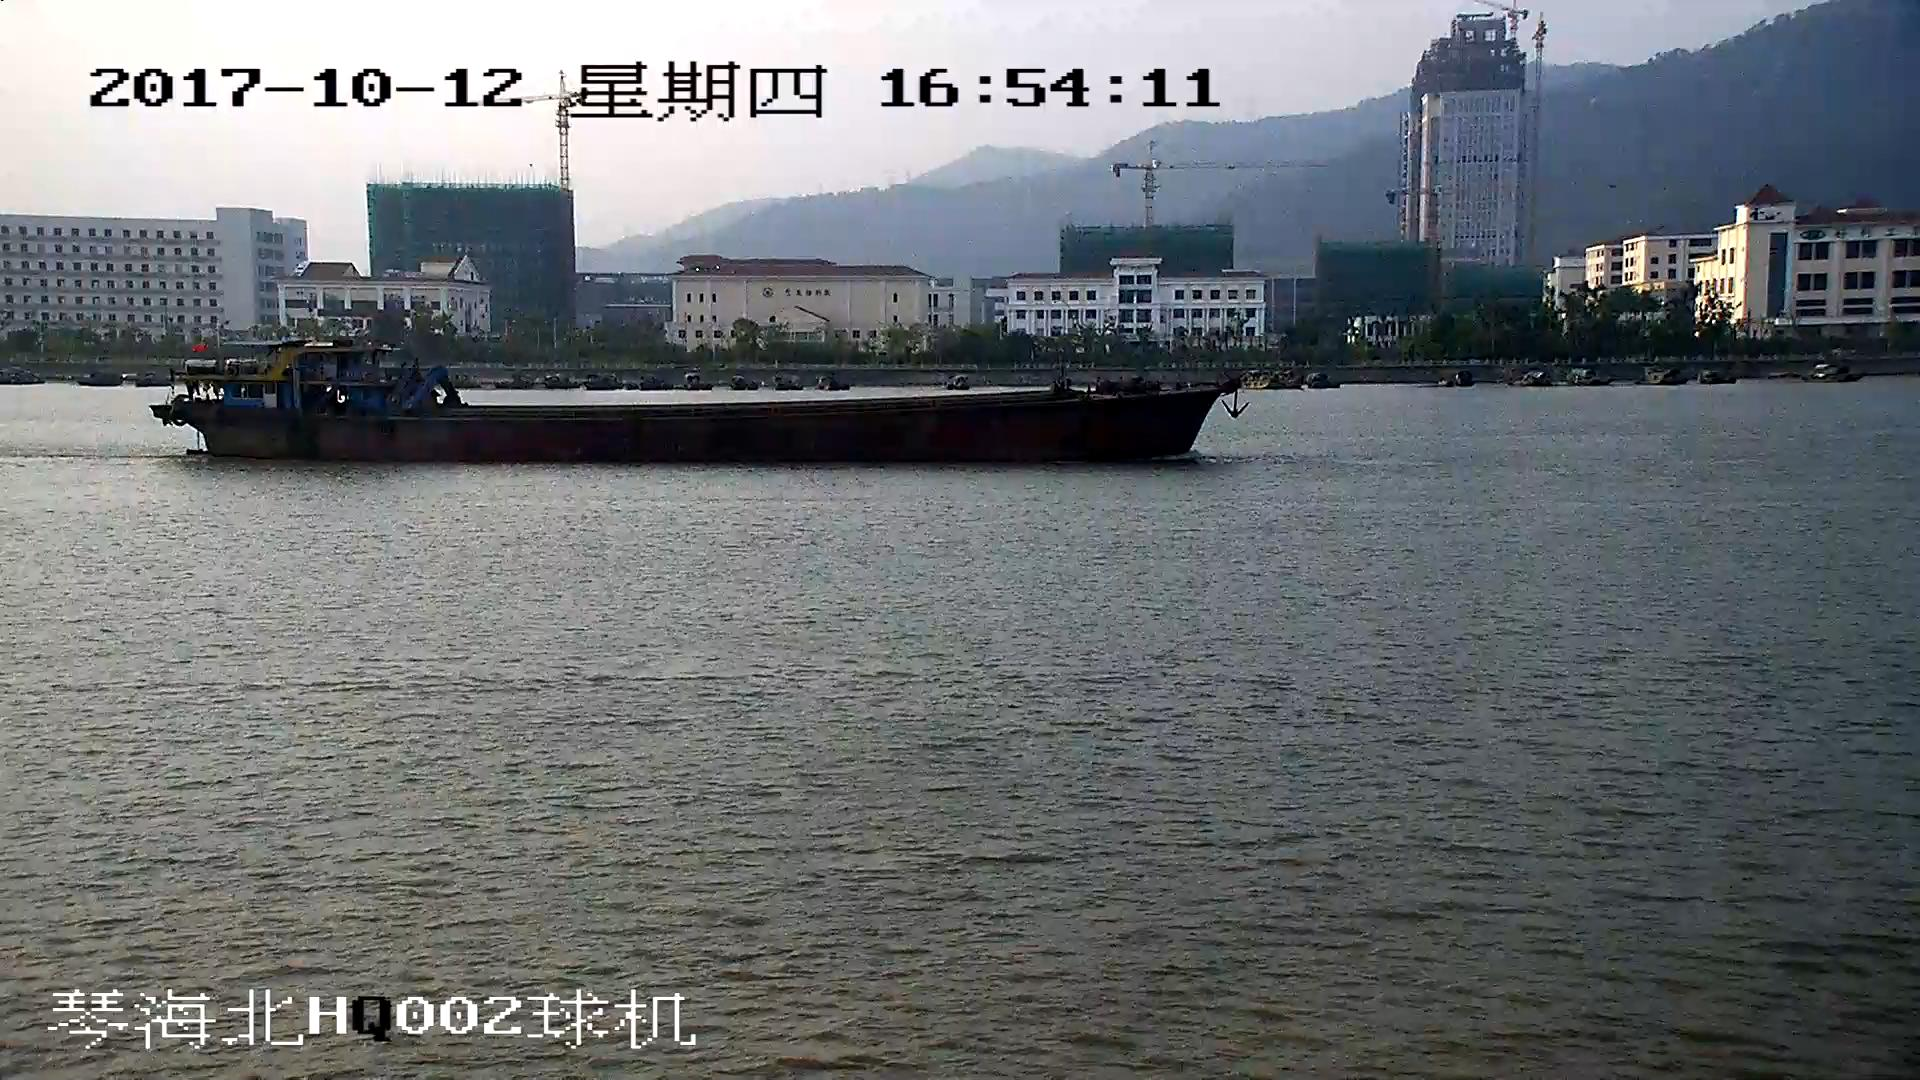bulk cargo carrier: (157, 334, 1244, 460)
